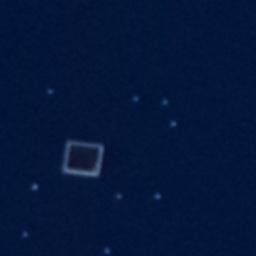square_solid: (57, 134, 114, 183)
